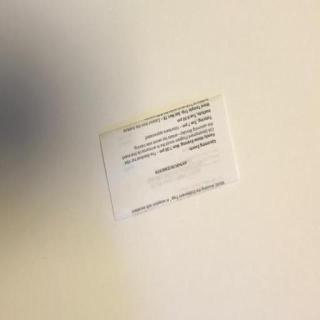Anorganik: (87, 87, 245, 226)
